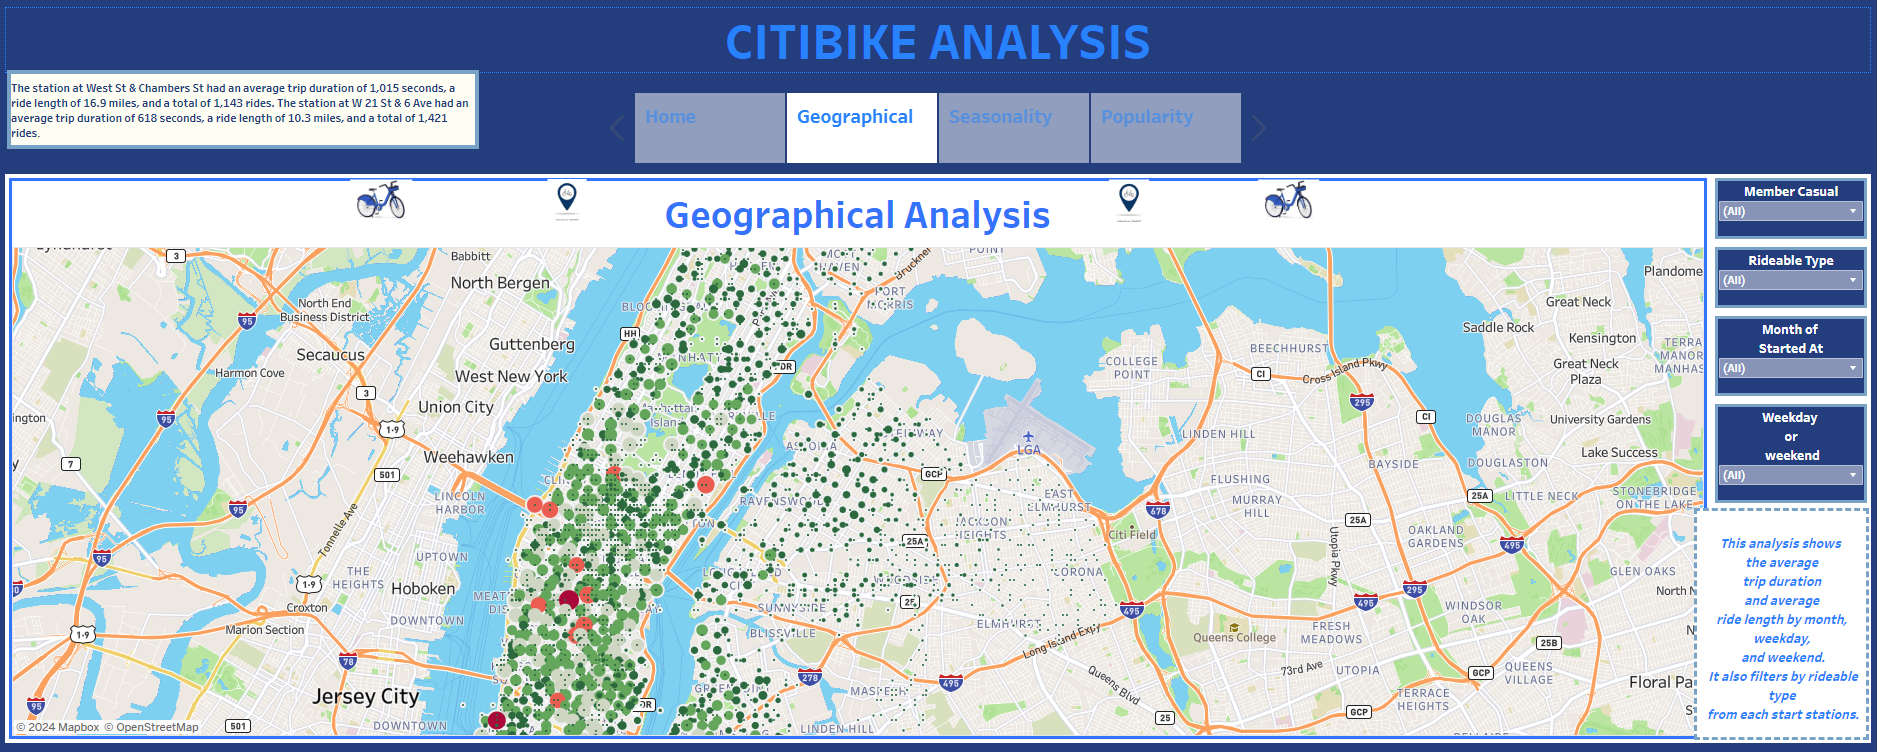

Layout of this report page (visuals, bound fields, positions):
{"tool":"tableau","page":{"name":"ANALYSIS MAP","canvas":[1000,1000],"units":"permille","ordinal":0},"visuals":[{"type":"worksheet","title":"MAP","mark":"Circle","rows":["Calculation_2480639023966539788"],"cols":["Calculation_2480639023967092749"],"box":[0,0,906.5,1000]},{"type":"filter","title":"MAP","param":"[federated.0w41ppg0dqevix11k8kzt1k9ii9s].[none:member_casual:nk]","box":[906.5,0,93.5,75.9]},{"type":"image","param":"C:/Users/Isbelis/Documents/Bootcamp/Homework/Tableau-challenge/CITIBIKE-TABLEAU-","box":[571,14,42.7,63.1]},{"type":"image","param":"C:/Users/Isbelis/Documents/Bootcamp/Homework/Tableau-challenge/CITIBIKE-TABLEAU-","box":[583.9,14,128.6,60.8]},{"type":"image","param":"C:/Users/Isbelis/Documents/Bootcamp/Homework/Tableau-challenge/CITIBIKE-TABLEAU-","box":[296.9,15.2,37.4,59.6]},{"type":"image","param":"C:/Users/Isbelis/Documents/Bootcamp/Homework/Tableau-challenge/CITIBIKE-TABLEAU-","box":[216.2,17.5,108.7,63.1]},{"type":"filter","title":"MAP","param":"[federated.0w41ppg0dqevix11k8kzt1k9ii9s].[none:rideable_type:nk]","box":[906.5,75.9,93.5,75.9]},{"type":"filter","title":"MAP","param":"[federated.0w41ppg0dqevix11k8kzt1k9ii9s].[mn:started_at:ok]","box":[906.5,151.9,93.5,97]},{"type":"filter","title":"MAP","param":"[federated.0w41ppg0dqevix11k8kzt1k9ii9s].[none:Calculation_2480639024720158736:n","box":[906.5,248.8,93.5,118]},{"type":"text","box":[909.4,625,84.8,327.1]}]}

Visuals, with their boxes on the dashboard's canvas, which has no fixed pixel size, in thousandths of its width and height (x1, y1, x2, y2). These are canvas units, not pixel positions in the 1877x752 screenshot, which may show the page scaled, cropped or inside an application window:
"MAP" worksheet (Circle marks): x1=0 y1=0 x2=906 y2=1000
"MAP" filter: x1=906 y1=0 x2=1000 y2=76
image: x1=571 y1=14 x2=614 y2=77
image: x1=584 y1=14 x2=712 y2=75
image: x1=297 y1=15 x2=334 y2=75
image: x1=216 y1=18 x2=325 y2=81
"MAP" filter: x1=906 y1=76 x2=1000 y2=152
"MAP" filter: x1=906 y1=152 x2=1000 y2=249
"MAP" filter: x1=906 y1=249 x2=1000 y2=367
text: x1=909 y1=625 x2=994 y2=952
